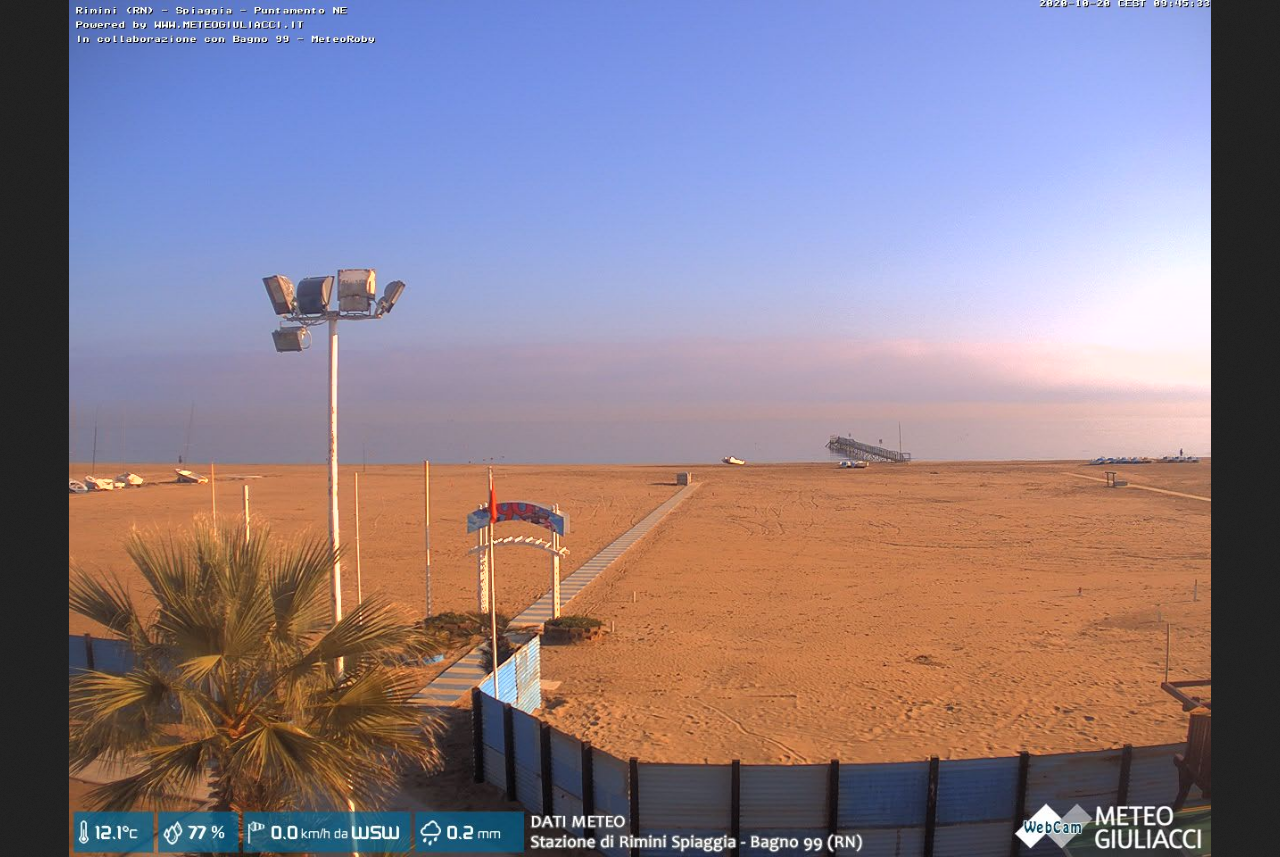no: (479, 463, 503, 527)
